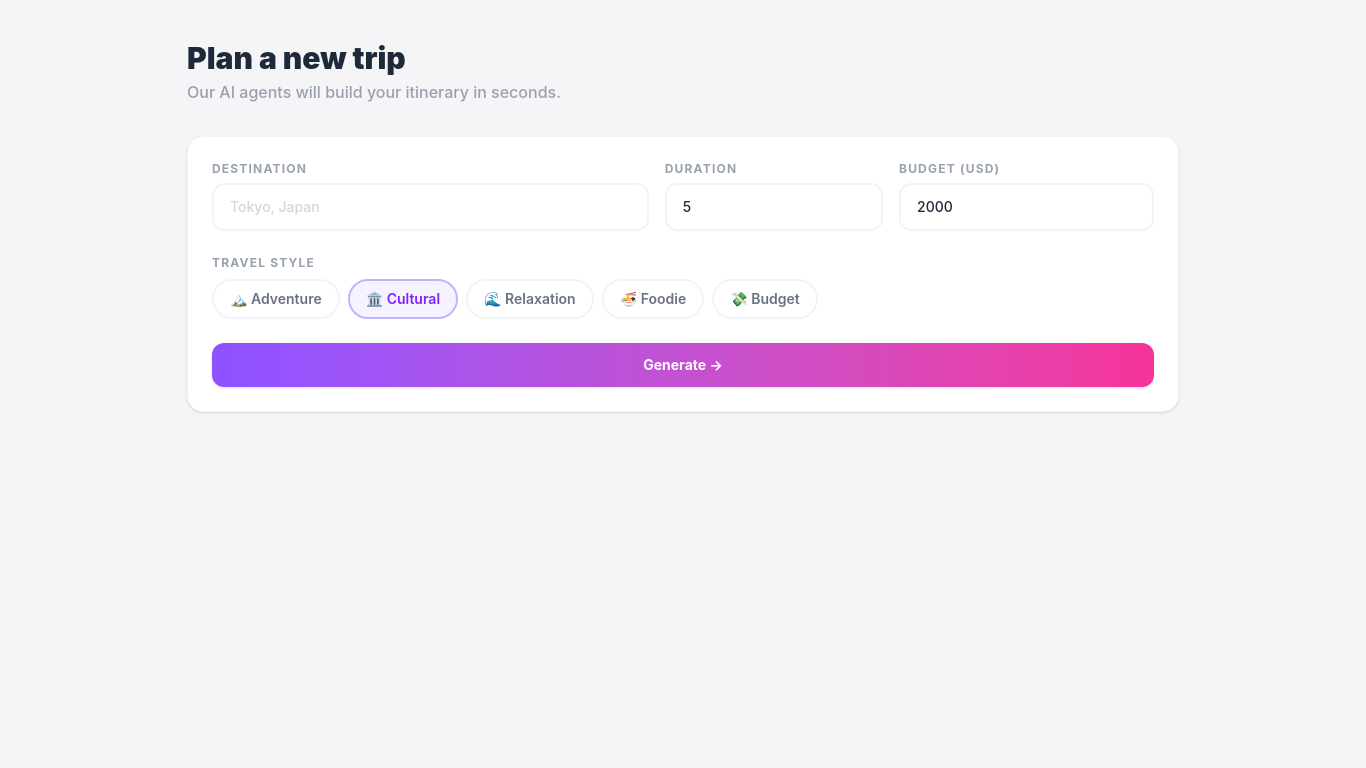
it: TripPlanner — generate success › renders agent outputs and evaluation after successful generate and judge
The width and height of the screenshot is (1366, 768).
Type "Tokyo" into the field with placeholder "Tokyo, Japan".
click(430, 207); type("Tokyo")  # box [212,183,649,231]
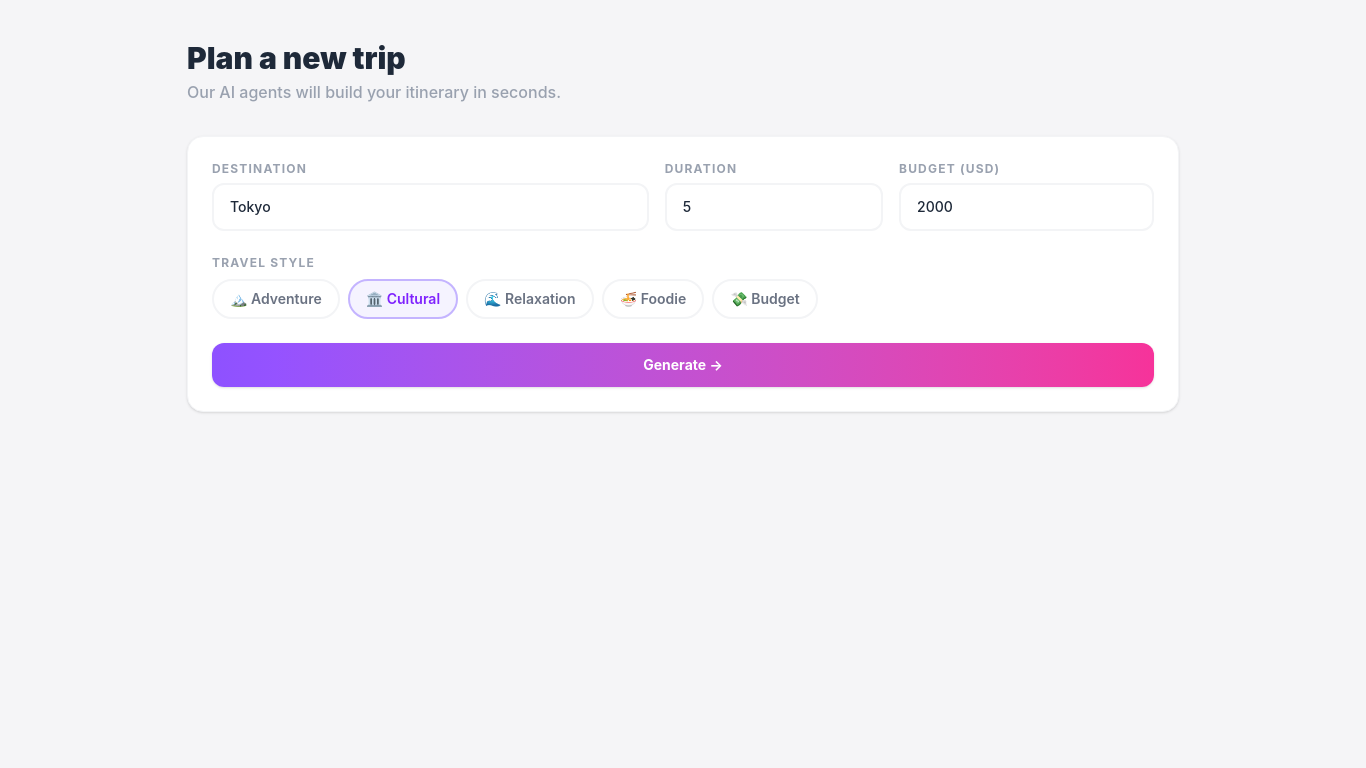
Submit the form named "Generate", box [187,136,1179,412]
(page scrolled)
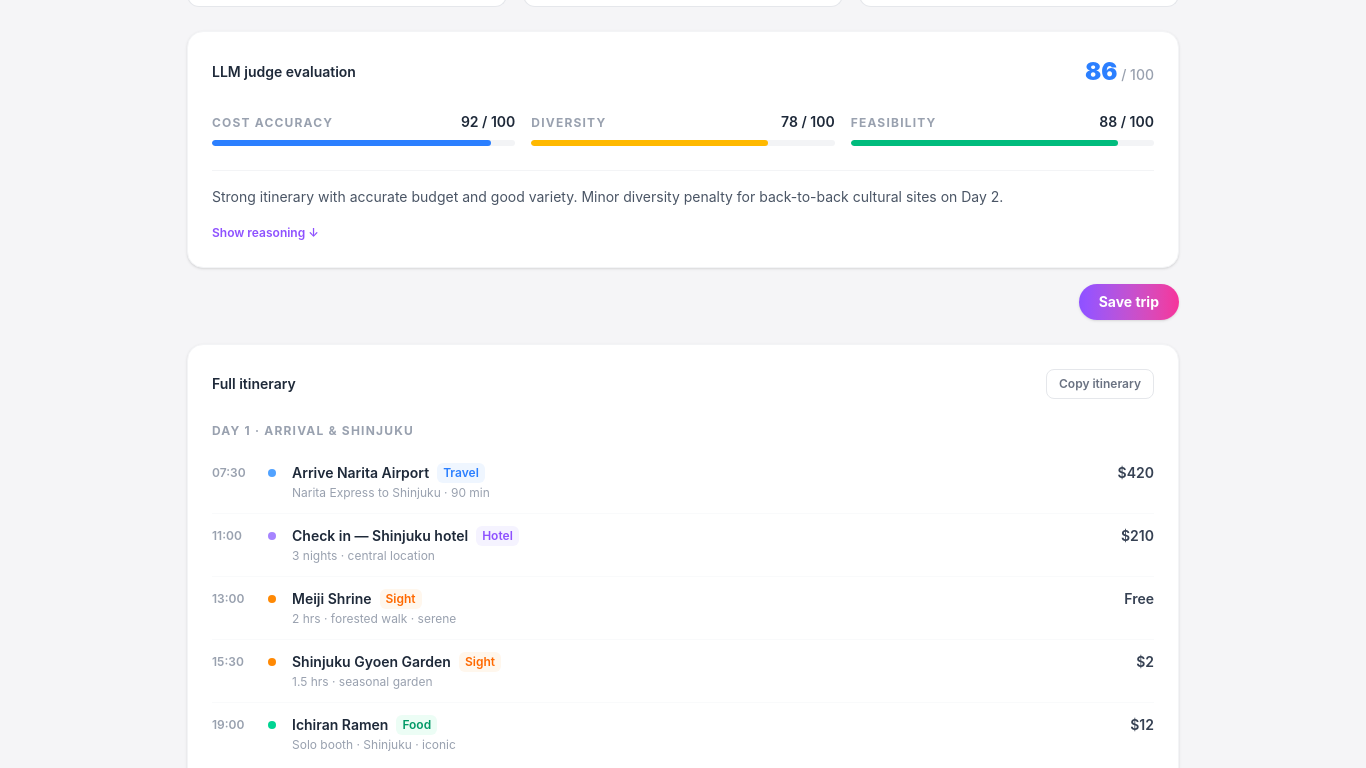
Expected: the button "Save trip" is shown, [1079,284,1179,320]
Expected: the heading "Full itinerary" is shown, [212,374,296,394]
